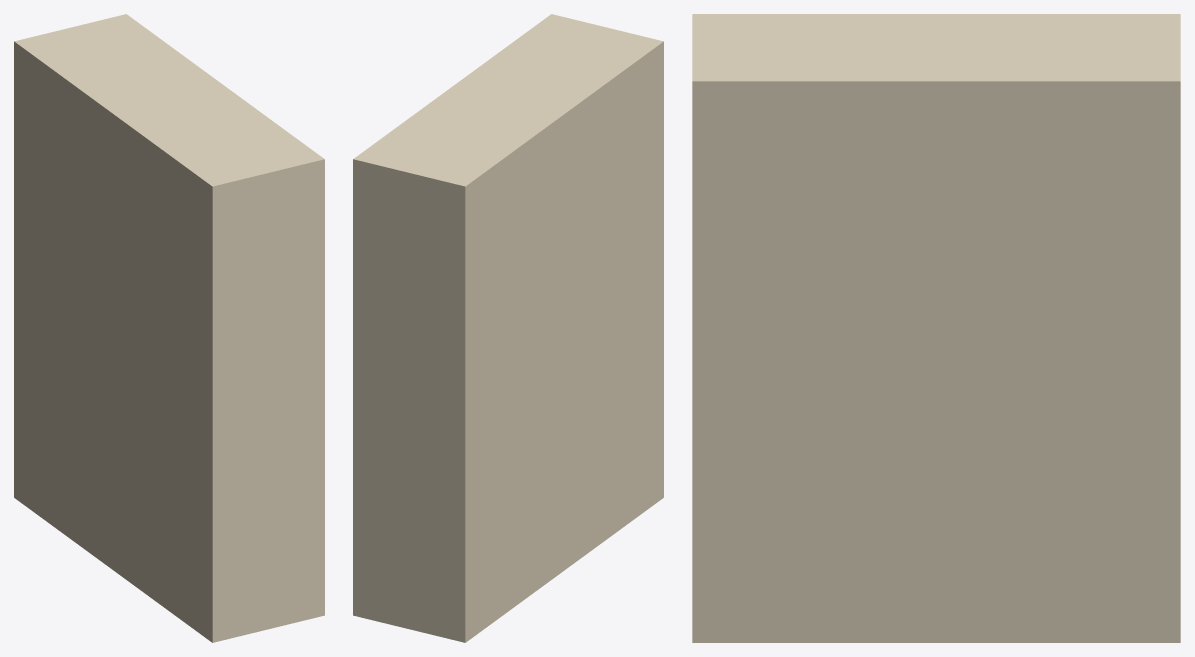
File: wardrobe.glb
3 views of the same model, side by side, from view 1: azimuth 30°, elevation 25°; view 2: azimuth 150°, elevation 25°; view 3: azimuth 270°, elevation 25° (orthographic). The views are drawn at different scales.
Visible parts, largest first — view 1: REF-L02-R01-wardrobe-part-1; view 2: REF-L02-R01-wardrobe-part-1; view 3: REF-L02-R01-wardrobe-part-1.
Boxes of the visible parts, x1,y1,x2,y2 form: REF-L02-R01-wardrobe-part-1: [14, 14, 324, 642]; REF-L02-R01-wardrobe-part-1: [353, 14, 663, 642]; REF-L02-R01-wardrobe-part-1: [692, 14, 1180, 642].
Bounding box in the file's own units: 0.17 × 0.66 × 0.52.
